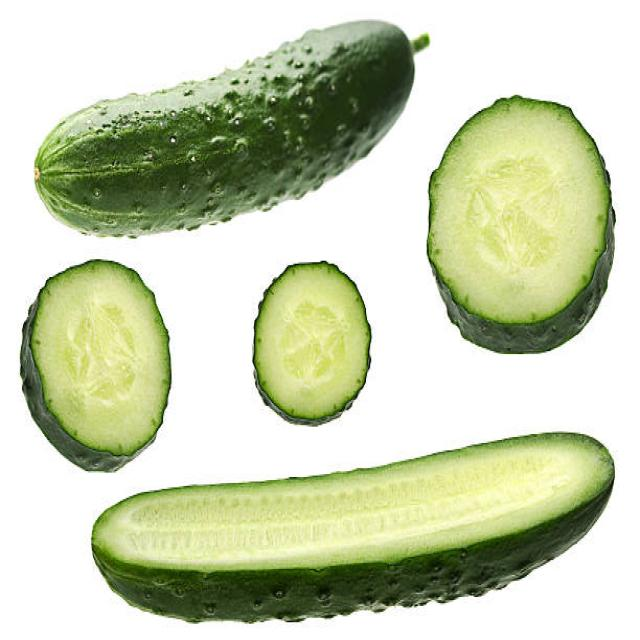cucumber: (90, 431, 618, 622), (34, 20, 414, 238)
